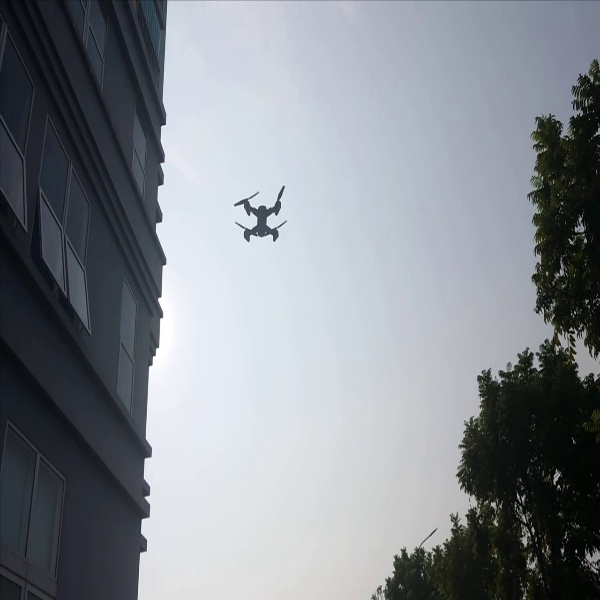drone: (227, 184, 292, 246)
